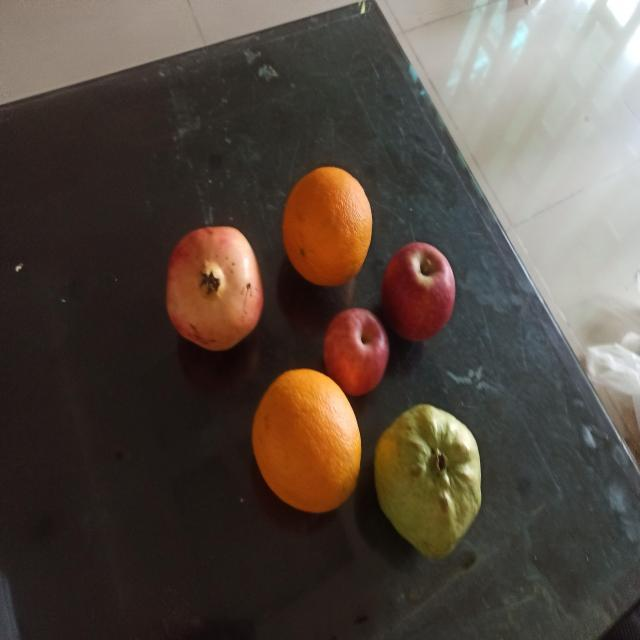apple: (380, 240, 456, 342), (322, 306, 390, 397)
